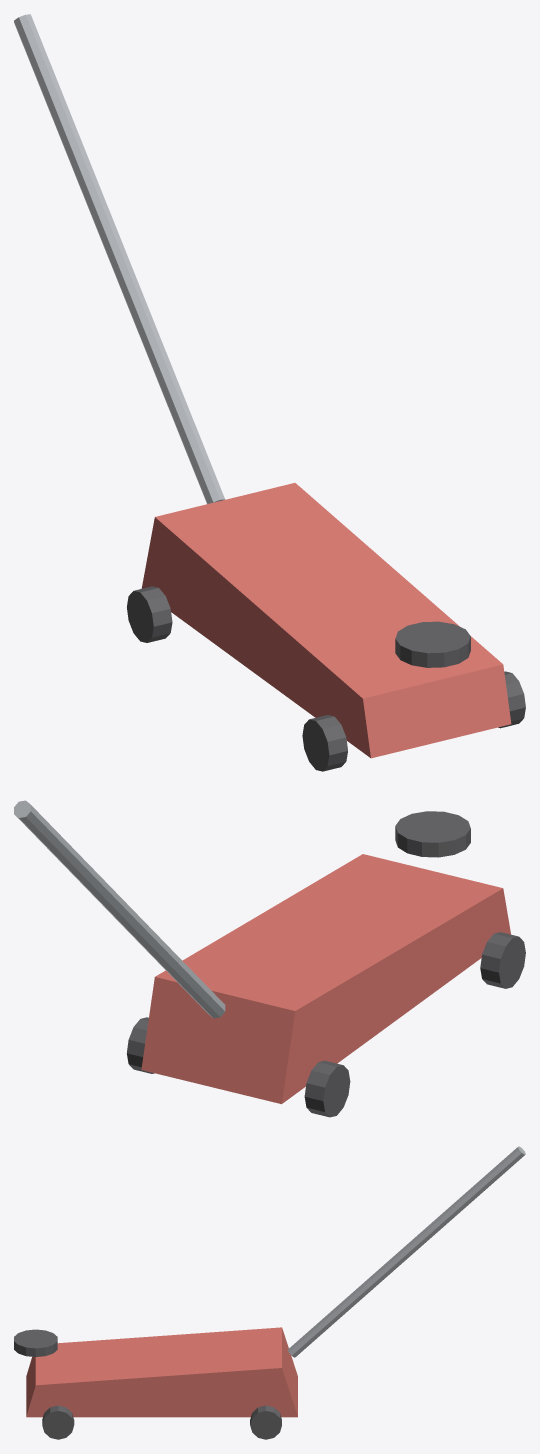
The model's file is floor_jack.glb.
3 views of the same model, one above another, from view 1: azimuth 30°, elevation 25°; view 2: azimuth 150°, elevation 25°; view 3: azimuth 270°, elevation 25° (orthographic). The views are drawn at different scales.
Parts seen in each view (by area): view 1: floor_jack_tool_r, floor_jack_steel, floor_jack_dark; view 2: floor_jack_tool_r, floor_jack_dark, floor_jack_steel; view 3: floor_jack_tool_r, floor_jack_steel, floor_jack_dark.
Boxes of the visible parts, x1,y1,x2,y2 form: floor_jack_tool_r: (141, 483, 511, 758); floor_jack_steel: (14, 14, 225, 503); floor_jack_dark: (127, 586, 525, 771); floor_jack_tool_r: (141, 854, 510, 1104); floor_jack_dark: (126, 811, 525, 1117); floor_jack_steel: (14, 800, 225, 1018); floor_jack_tool_r: (26, 1327, 297, 1417); floor_jack_steel: (288, 1146, 525, 1357); floor_jack_dark: (14, 1329, 281, 1439).
Size of the model in its own units: 0.42 by 0.9129 by 1.6.
